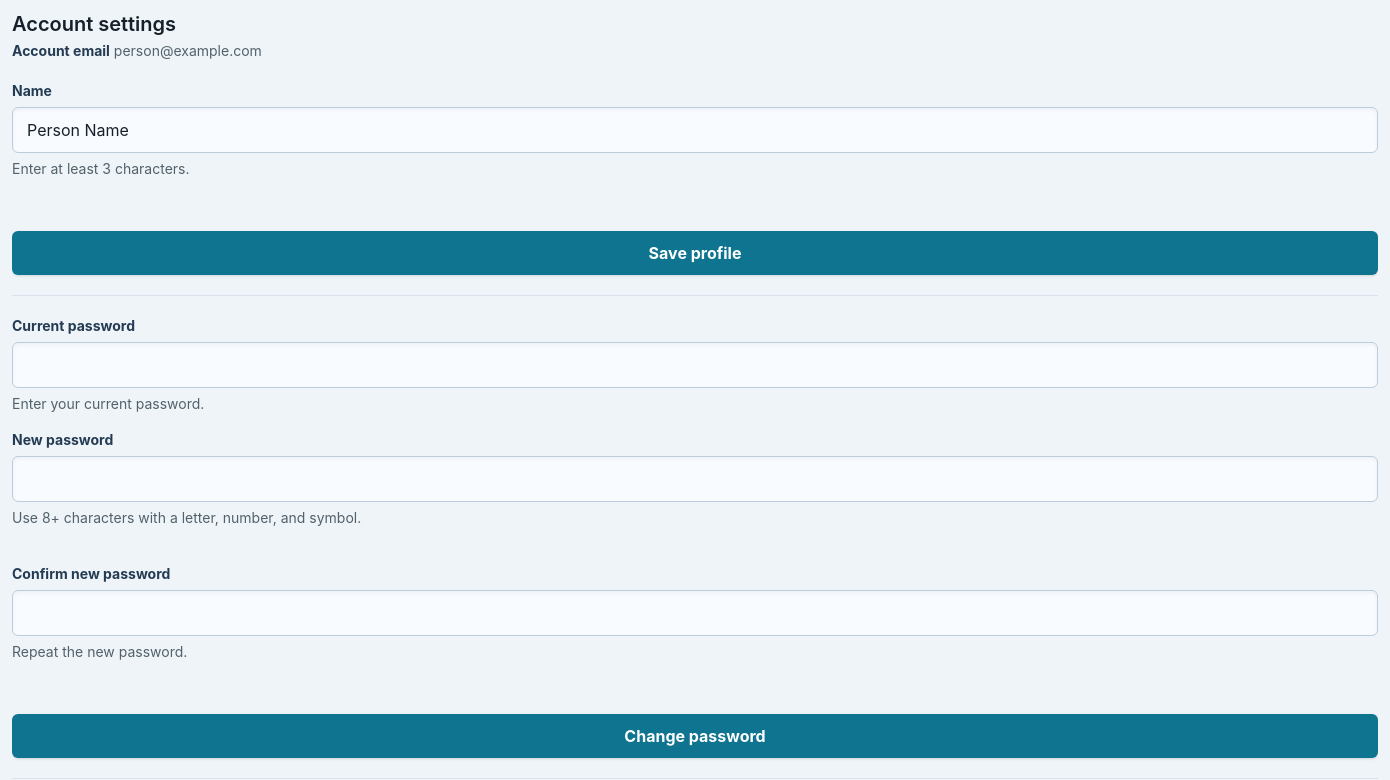
it: AccountSettingsPanel › validates profile and password fields before submitting
Replace the text in the field labelled "Name" with "Al": (695, 130) [12, 107, 1378, 153]
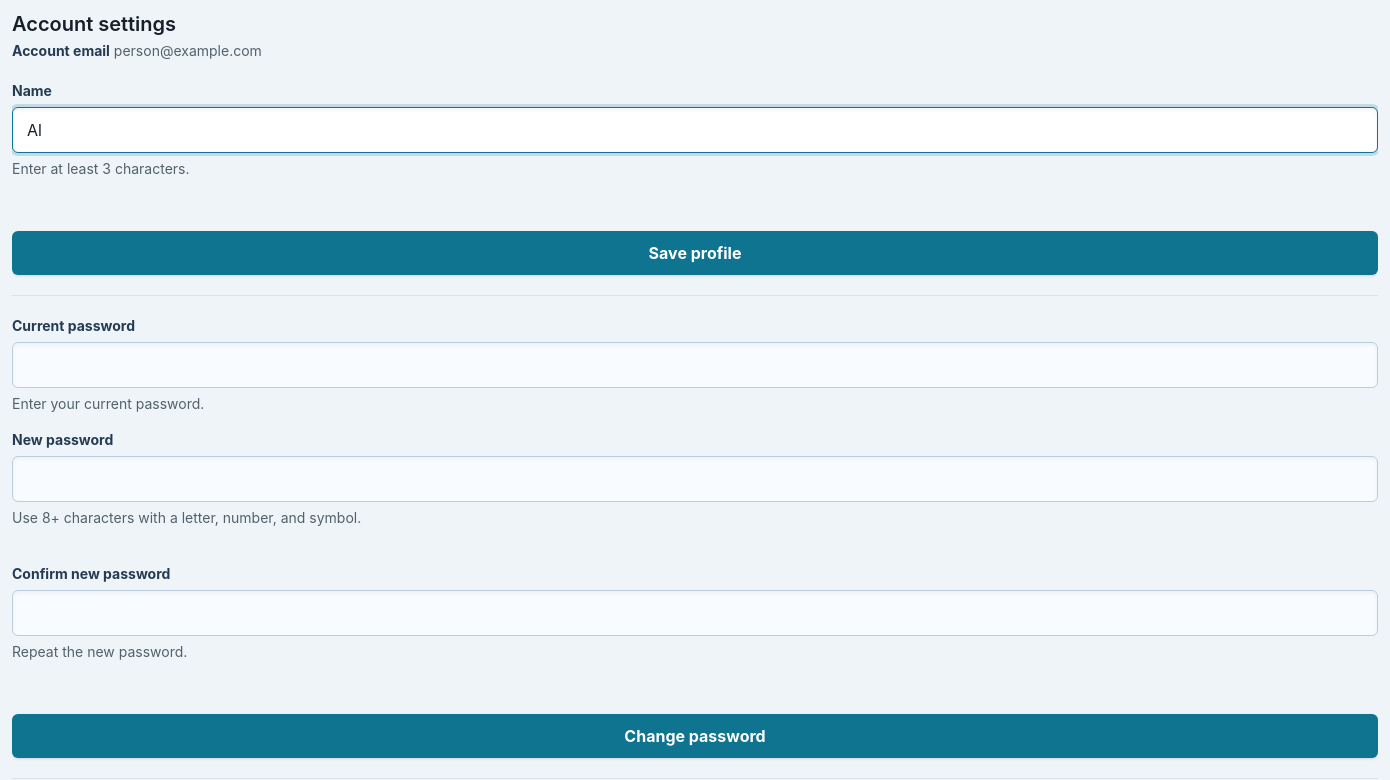
Click the button "Save profile": (695, 253) [12, 231, 1378, 275]
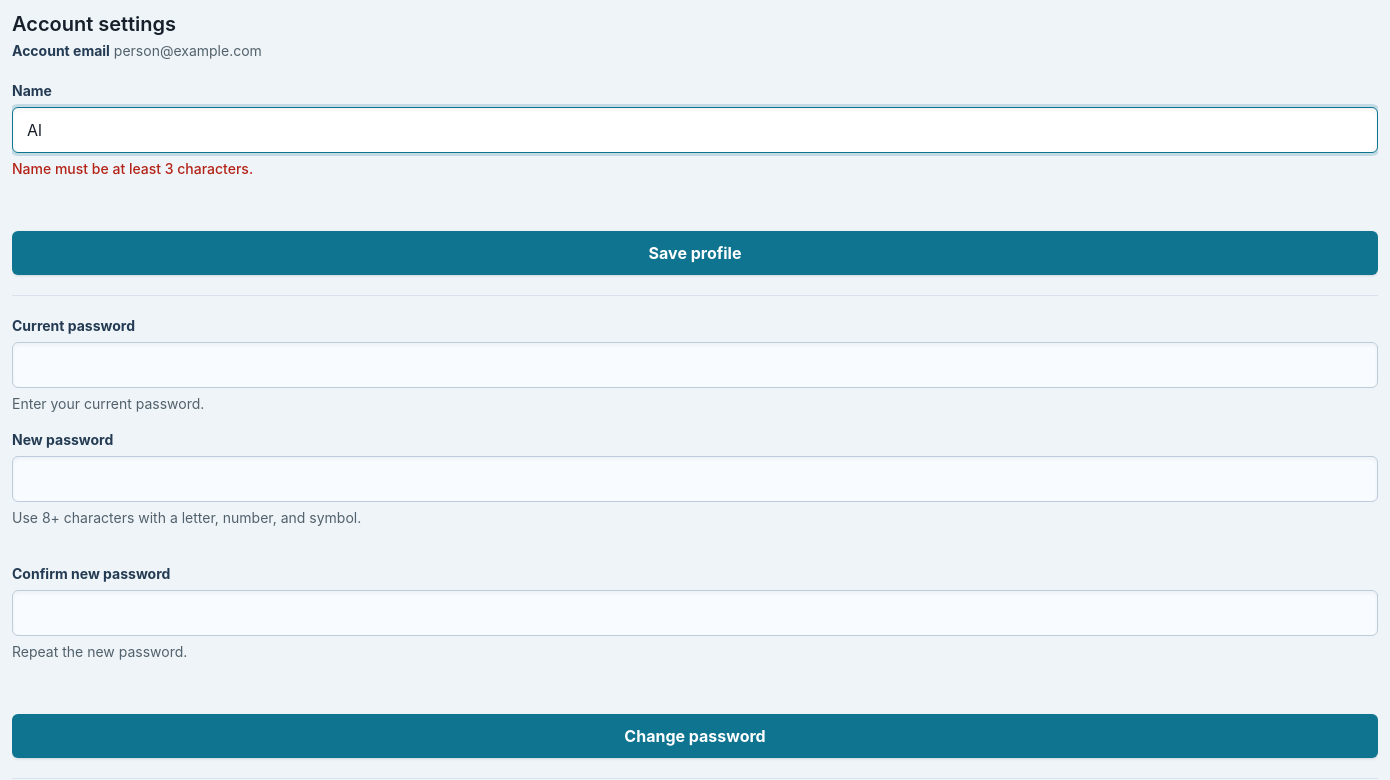
Click the button "Change password": (695, 736) [12, 714, 1378, 758]
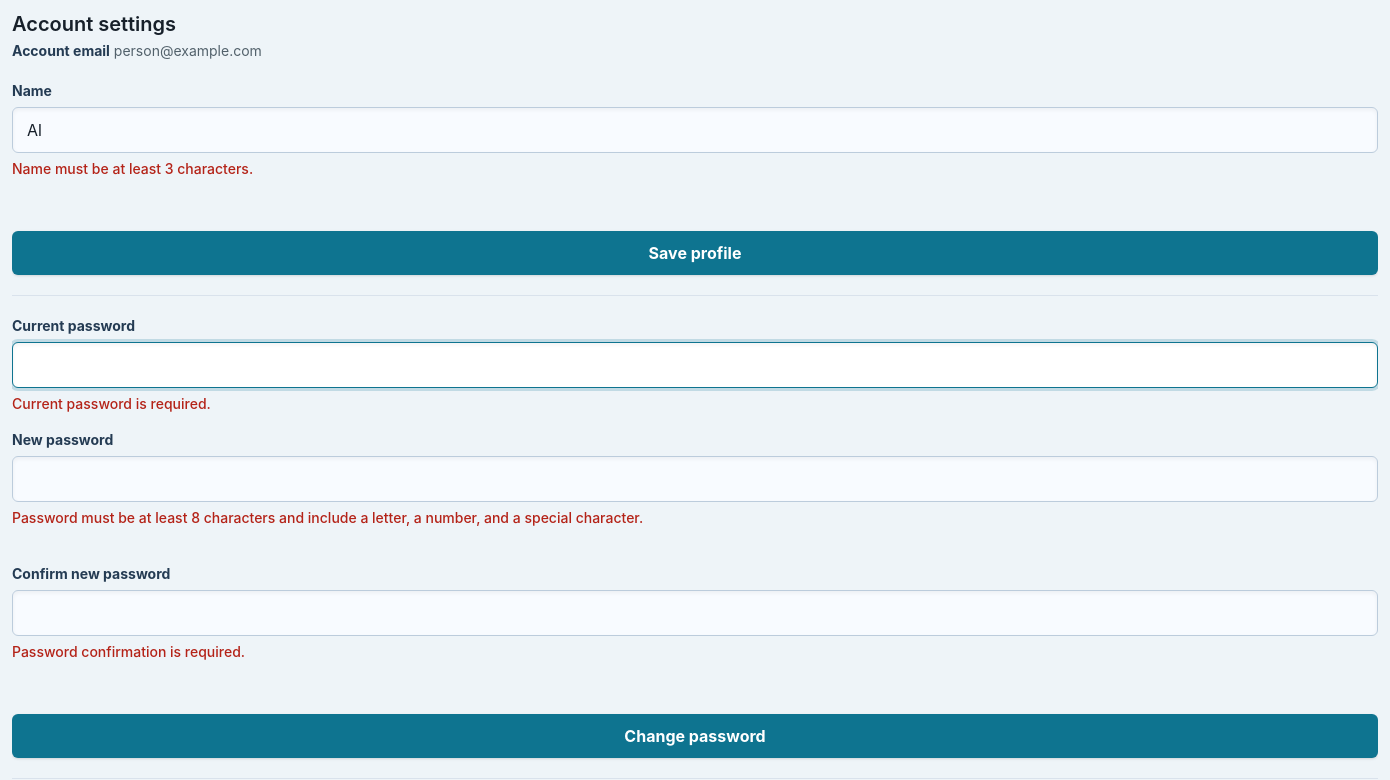
Check: the text "Name must be at least 3 characters." is shown, box [12, 160, 253, 177]
Check: the text "Current password is required." is shown, box [12, 395, 211, 412]
Check: the text "Password must be at least 8 characters and include a letter, a number, and a special character." is shown, box [12, 509, 643, 526]
